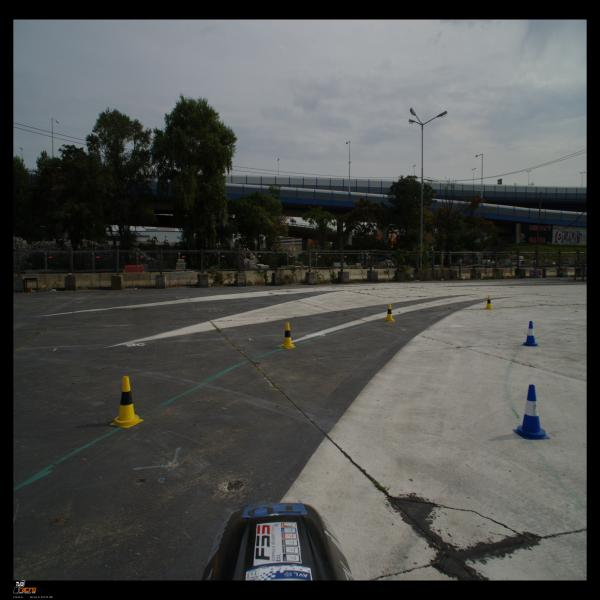blue_cone: (513, 384, 550, 439), (522, 321, 539, 346)
yellow_cone: (110, 376, 144, 428), (279, 323, 296, 348), (384, 304, 395, 322), (485, 295, 493, 310)
